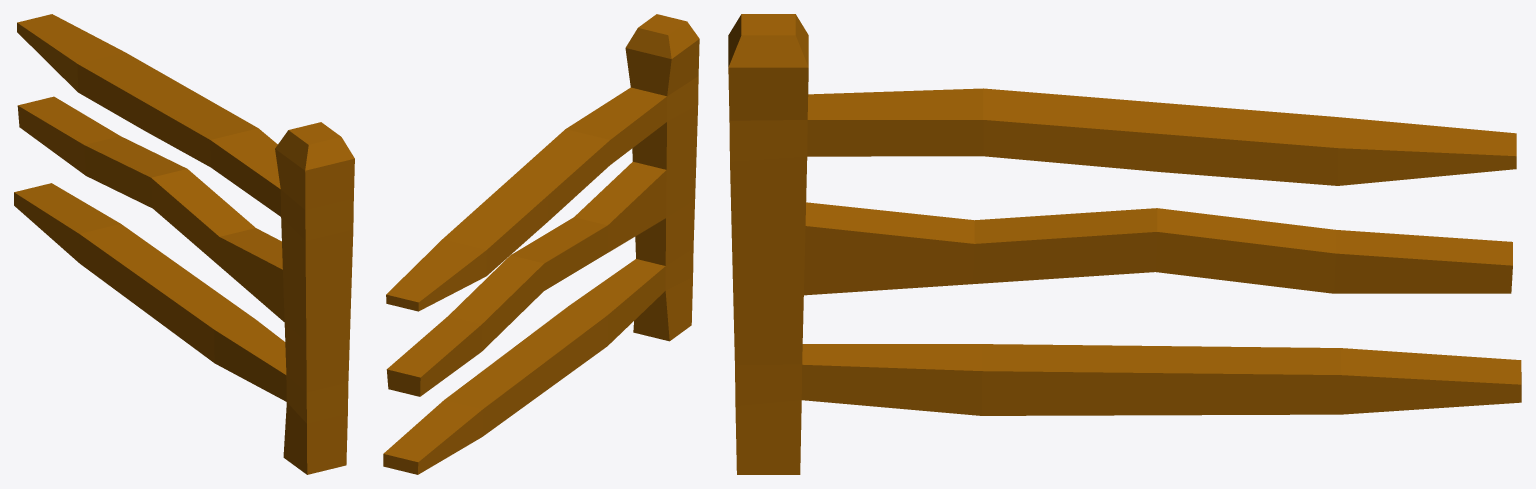
Rendered from cit.fbx.
3 renders of one model, left to right at view 1: azimuth 30°, elevation 25°; view 2: azimuth 150°, elevation 25°; view 3: azimuth 270°, elevation 25°, orthographic. The views are drawn at different scales.
Parts seen in each view (by area): view 1: Cube.002; view 2: Cube.002; view 3: Cube.002.
Part boxes in pixels (x1,y1,x2,y2): Cube.002: [14, 14, 354, 474]; Cube.002: [383, 14, 699, 474]; Cube.002: [728, 14, 1521, 474].
Bounding box in the file's own units: 23.21 × 146 × 240.
